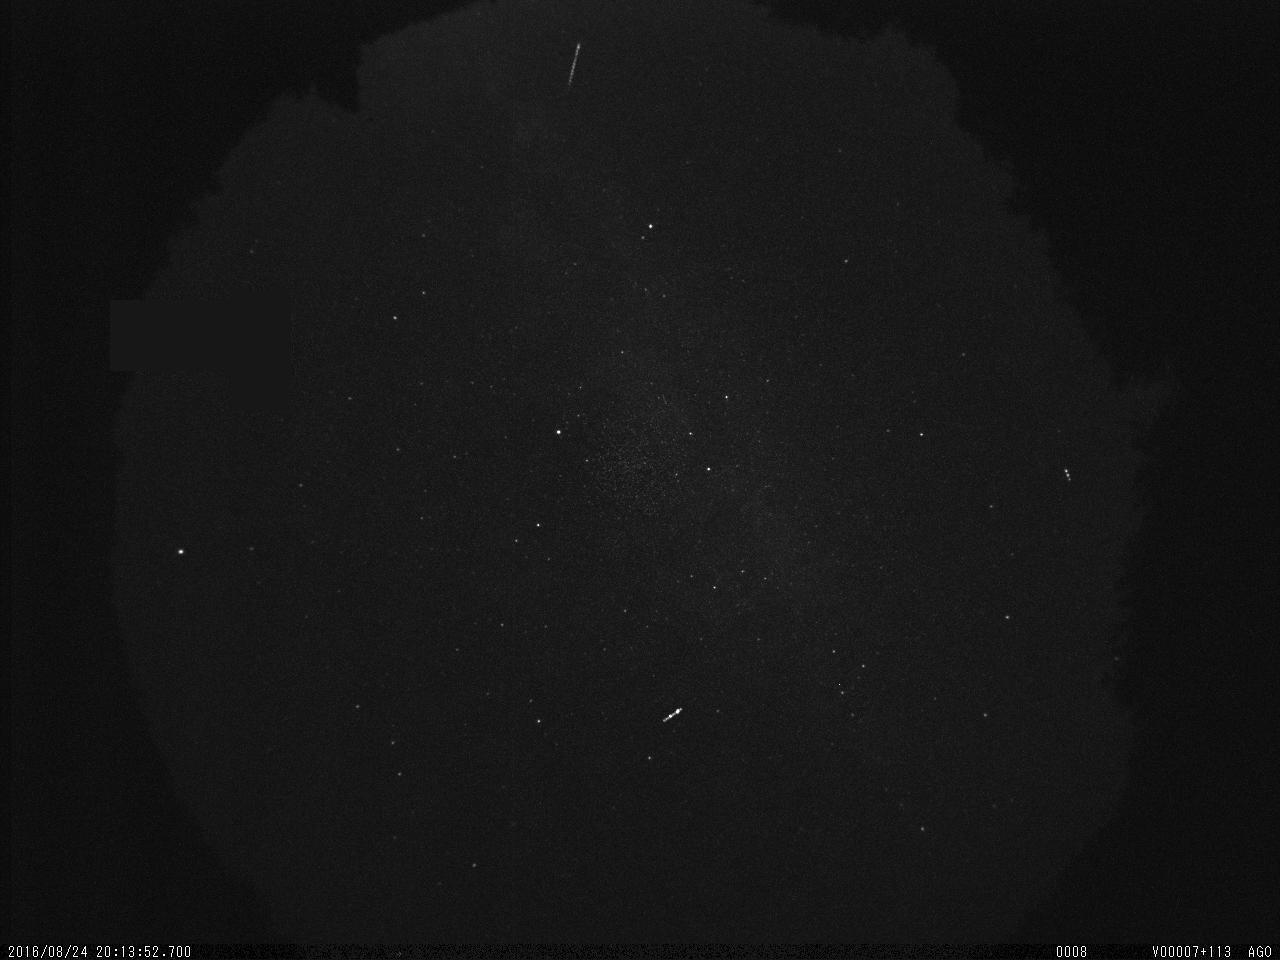meteor: (565, 43, 589, 87)
